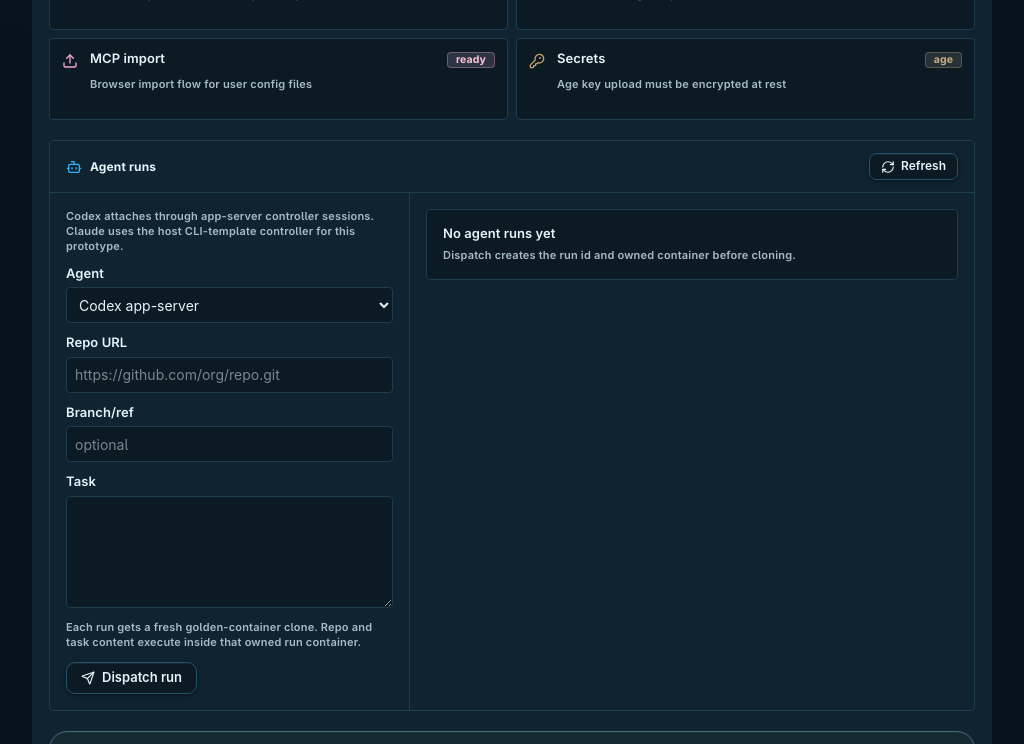
WorkspaceDashboard › submits an agent run and displays progress identity
This screenshot has width=1024, height=744.
(page scrolled)
In the field labelled "Repo URL": (230, 375) [66,357,393,393], type "https://github.com/jmagar/incus-web.git"
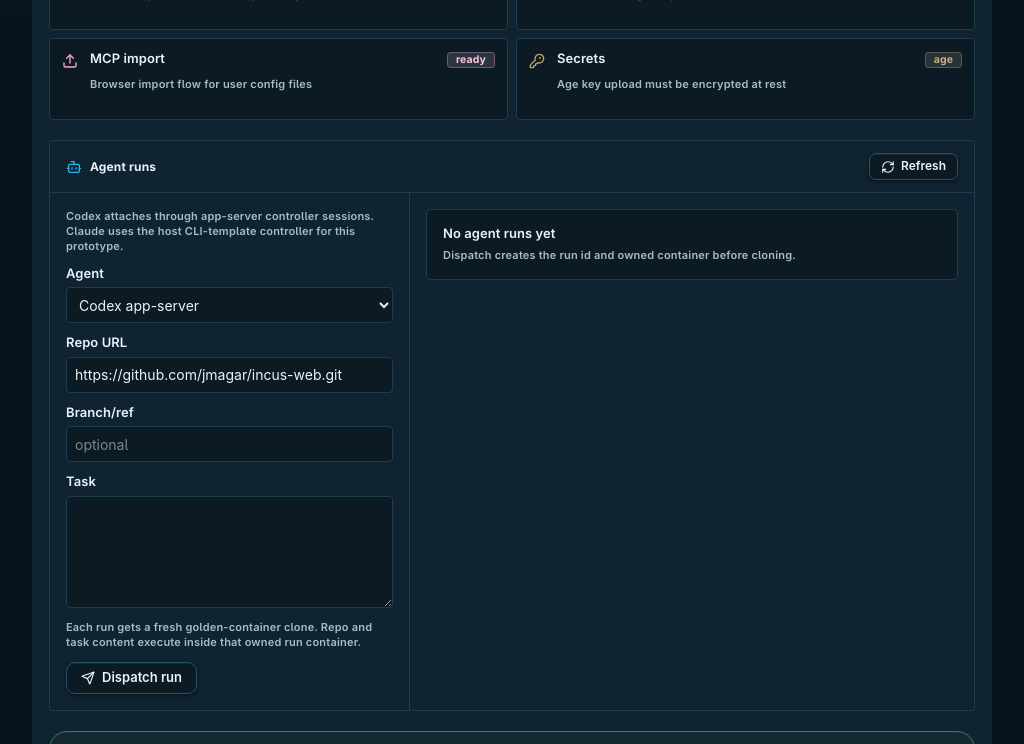
In the text box labelled "Task": (230, 552) [66,496,393,608], type "Run tests"
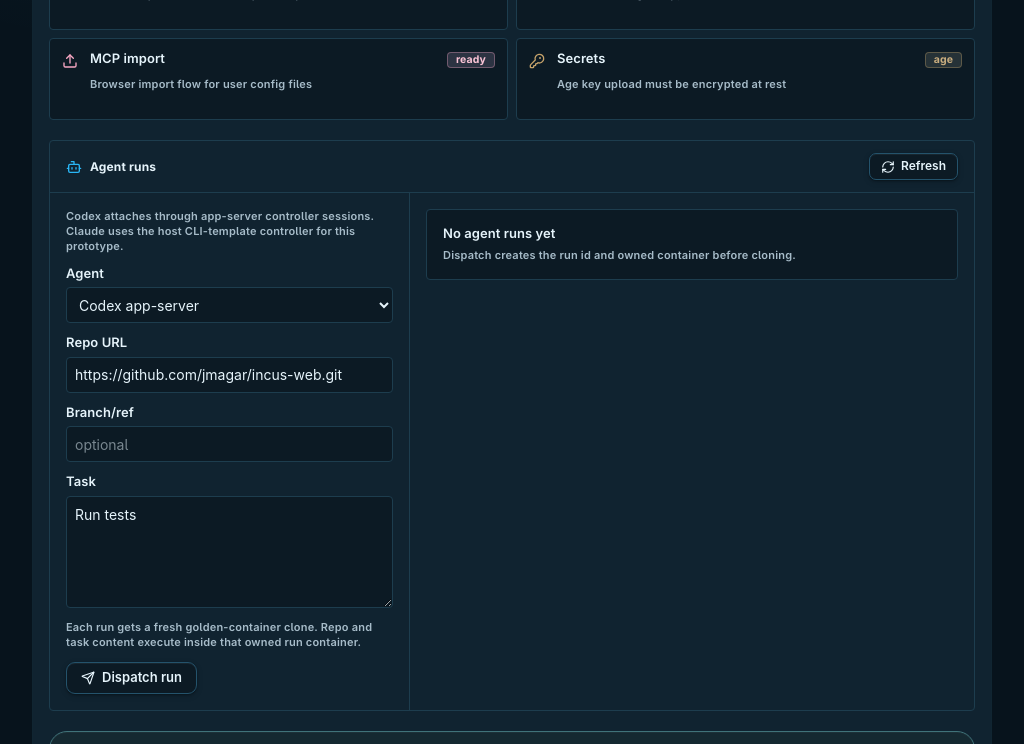
Click the button "Dispatch run": (132, 678) [66,662,197,694]
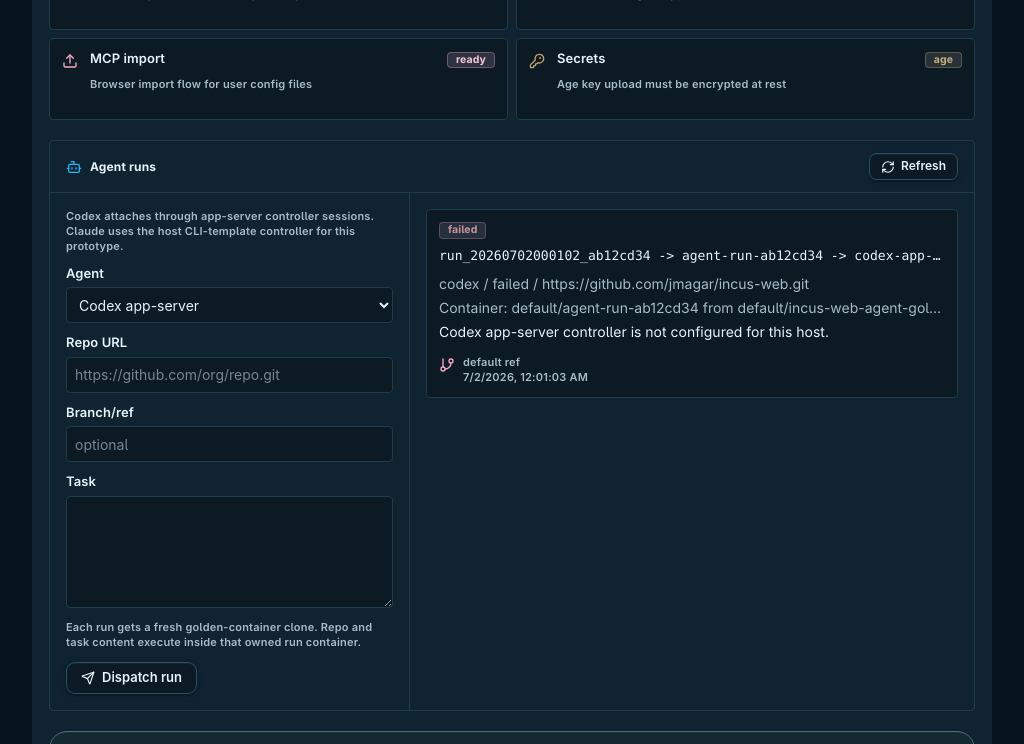
Expected: the text "run_20260702000102_ab12cd34" is shown, [439,249,651,264]
Expected: the text "agent-run-ab12cd34" is shown, [682,249,823,264]
Expected: the text "codex-app-server" is shown, [854,249,975,264]
